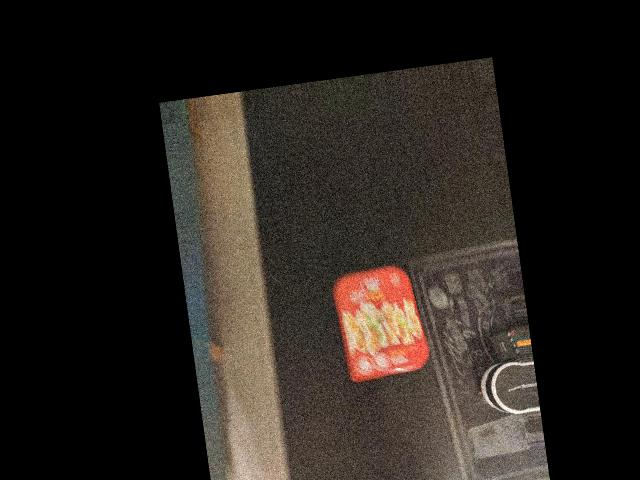cheese: (329, 262, 432, 383)
